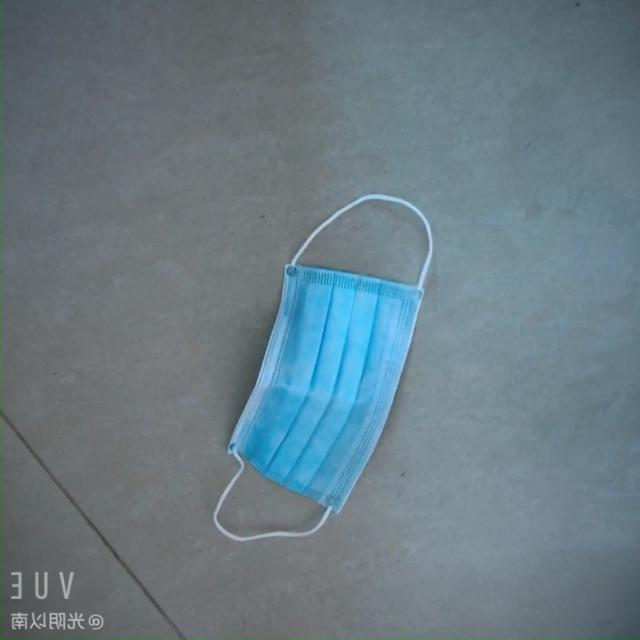face mask: (238, 257, 428, 522)
